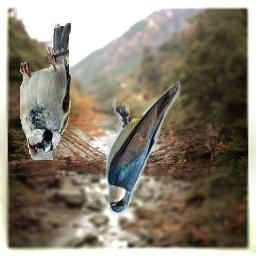Sparrow: (21, 24, 72, 161)
Swallow: (103, 82, 183, 219)
